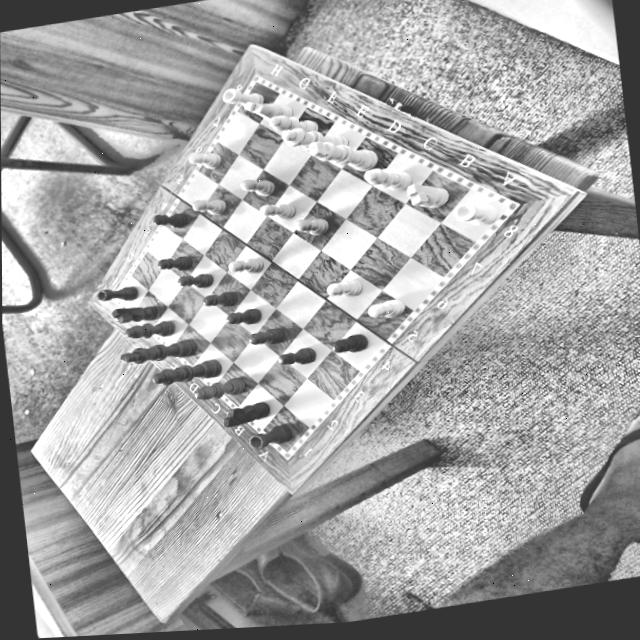black-bishop: (187, 375, 250, 404), (122, 318, 180, 344)
black-king: (116, 336, 201, 369)
black-knight: (218, 398, 274, 431), (107, 301, 158, 328)
black-pawn: (328, 327, 372, 363), (148, 205, 192, 239), (272, 345, 318, 374), (151, 250, 196, 276), (198, 288, 243, 314), (244, 325, 288, 351), (174, 270, 216, 294), (223, 306, 266, 329)
black-queen: (147, 357, 223, 389)
black-rook: (242, 422, 294, 453), (94, 281, 139, 308)
white-bishop: (262, 104, 324, 145), (357, 160, 421, 199)
white-king: (301, 129, 383, 185)
white-knight: (237, 93, 298, 128), (398, 178, 453, 215)
white-pawn: (321, 271, 370, 308), (184, 145, 227, 178), (236, 172, 280, 204), (364, 295, 409, 326), (291, 213, 335, 244), (188, 191, 229, 223), (224, 253, 269, 281), (255, 199, 299, 227)
white-queen: (275, 117, 358, 162)
white-rook: (448, 195, 503, 234), (217, 78, 270, 116)
